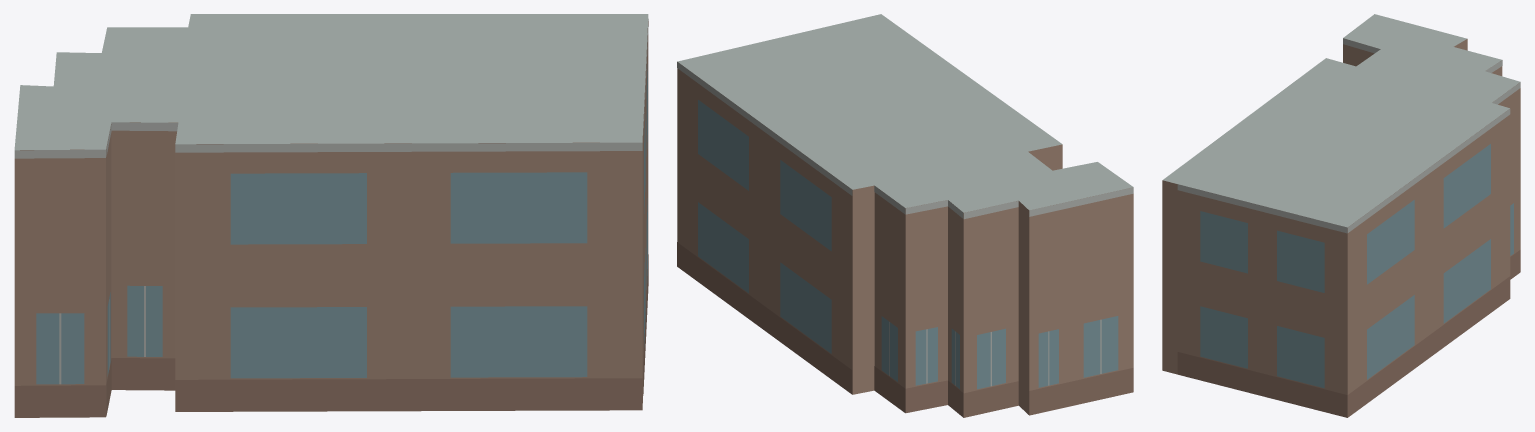
Rendered from survey-upis-32965624.glb.
The picture shows the model from 3 angles, left to right: view 1: azimuth 30°, elevation 25°; view 2: azimuth 150°, elevation 25°; view 3: azimuth 270°, elevation 25°; orthographic projection. The views are drawn at different scales.
Parts seen in each view (by area): view 1: survey-upis-32965624.tmp; view 2: survey-upis-32965624.tmp; view 3: survey-upis-32965624.tmp.
Boxes of the visible parts, x1,y1,x2,y2 form: survey-upis-32965624.tmp: (14,14,648,417); survey-upis-32965624.tmp: (677,14,1133,417); survey-upis-32965624.tmp: (1162,14,1520,417).
Bounding box in the file's own units: 18.54 × 7.71 × 13.16.
